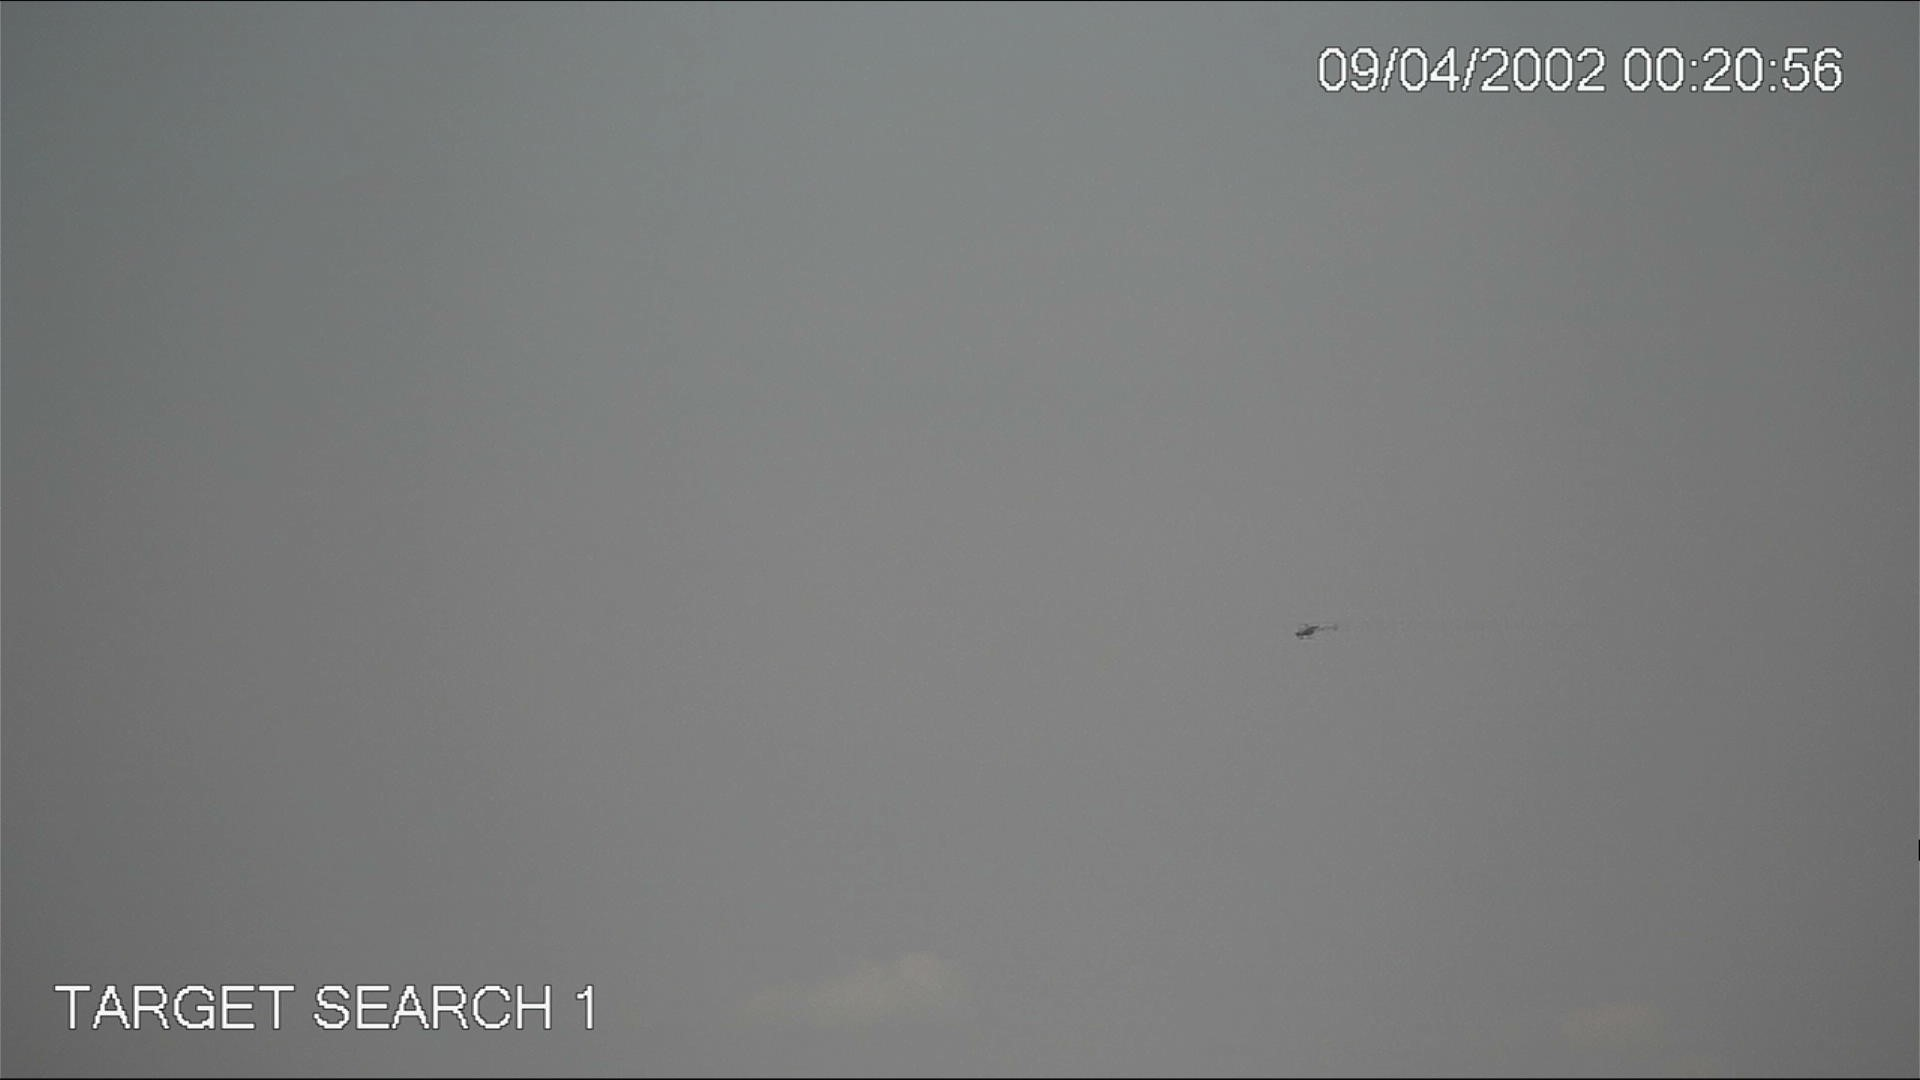SU_30: (1296, 622, 1323, 640)
